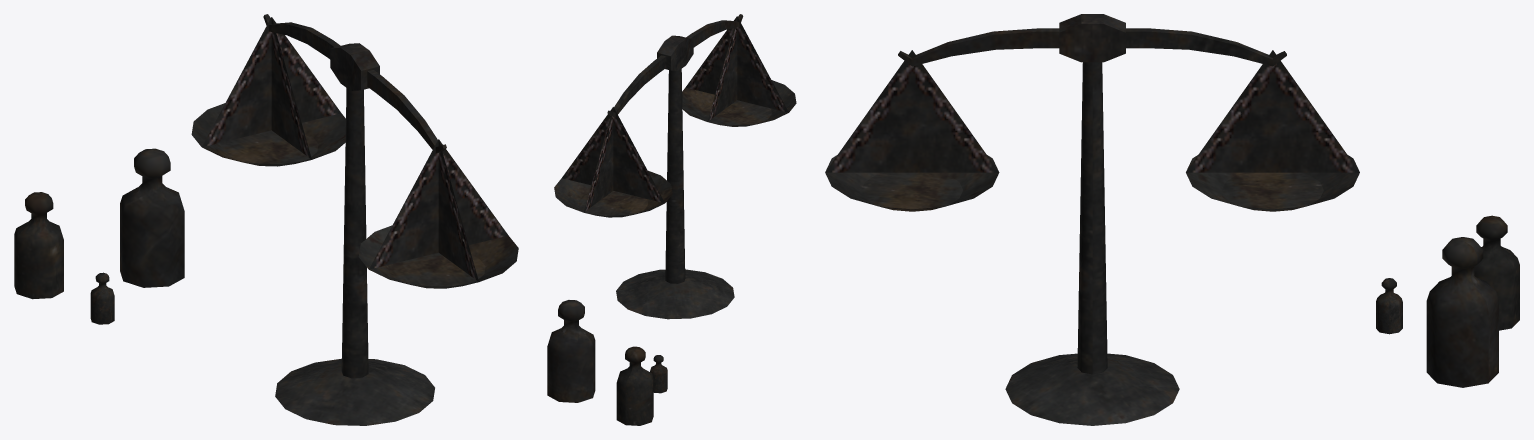
Rendered from Stall2_add.fbx.
3 renders of one model, left to right at view 1: azimuth 30°, elevation 25°; view 2: azimuth 150°, elevation 25°; view 3: azimuth 270°, elevation 25°, orthographic. The views are drawn at different scales.
Parts seen in each view (by area): view 1: stall2_add:polySurface1; view 2: stall2_add:polySurface1; view 3: stall2_add:polySurface1.
Boxes of the visible parts, left/top/right/bottom form: stall2_add:polySurface1: left=14, top=14, right=518, bottom=425; stall2_add:polySurface1: left=547, top=14, right=796, bottom=425; stall2_add:polySurface1: left=825, top=14, right=1519, bottom=425.
Bounding box in the file's own units: 2.24 × 3.29 × 5.59.
